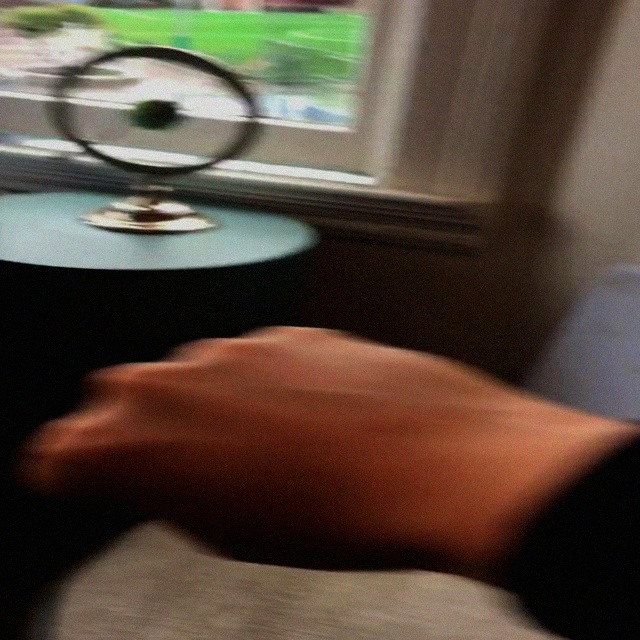Rock: (12, 323, 537, 573)
